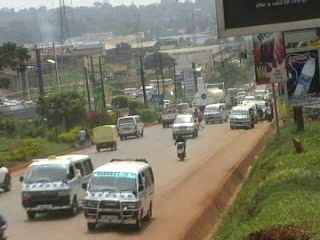Car: (0, 159, 13, 192), (189, 103, 203, 120), (178, 108, 196, 120)
Motorcycle: (173, 132, 188, 163), (0, 208, 11, 240), (192, 106, 201, 122)
